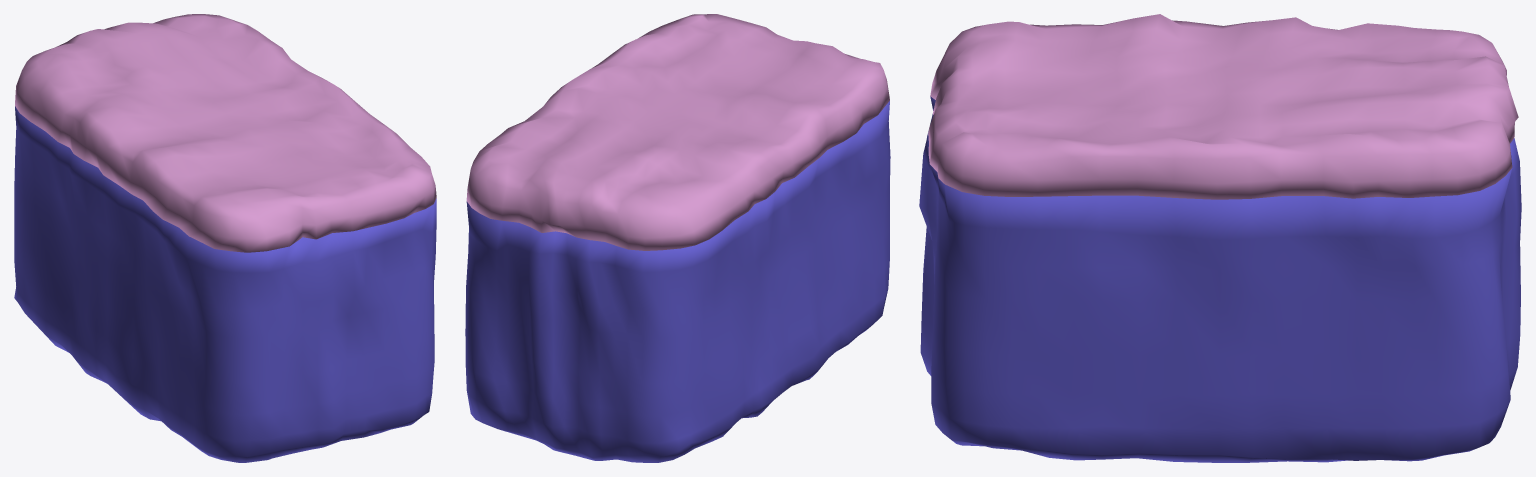
File: Cargo_CTB_Half_Size.fbx
3 views of the same model, side by side, from view 1: azimuth 30°, elevation 25°; view 2: azimuth 150°, elevation 25°; view 3: azimuth 270°, elevation 25° (orthographic). The views are drawn at different scales.
Parts seen in each view (by area): view 1: Cargo_CTB_Half_Size, Cargo_CTB_Half_Size.001; view 2: Cargo_CTB_Half_Size, Cargo_CTB_Half_Size.001; view 3: Cargo_CTB_Half_Size, Cargo_CTB_Half_Size.001.
Part boxes in pixels (x1,y1,x2,y2): Cargo_CTB_Half_Size: (14, 106, 436, 462); Cargo_CTB_Half_Size.001: (15, 14, 436, 252); Cargo_CTB_Half_Size: (465, 101, 890, 462); Cargo_CTB_Half_Size.001: (466, 14, 889, 250); Cargo_CTB_Half_Size: (919, 96, 1521, 462); Cargo_CTB_Half_Size.001: (928, 14, 1518, 199).
Bounding box in the file's own units: 258 × 272 × 451.
